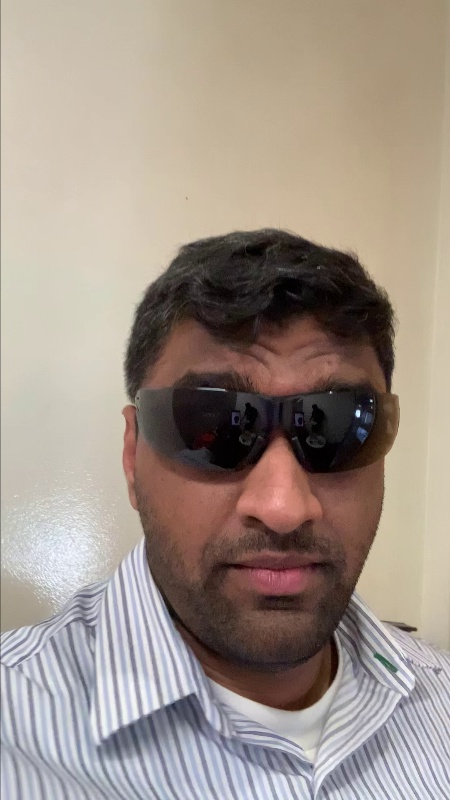glasses: (129, 372, 409, 478)
